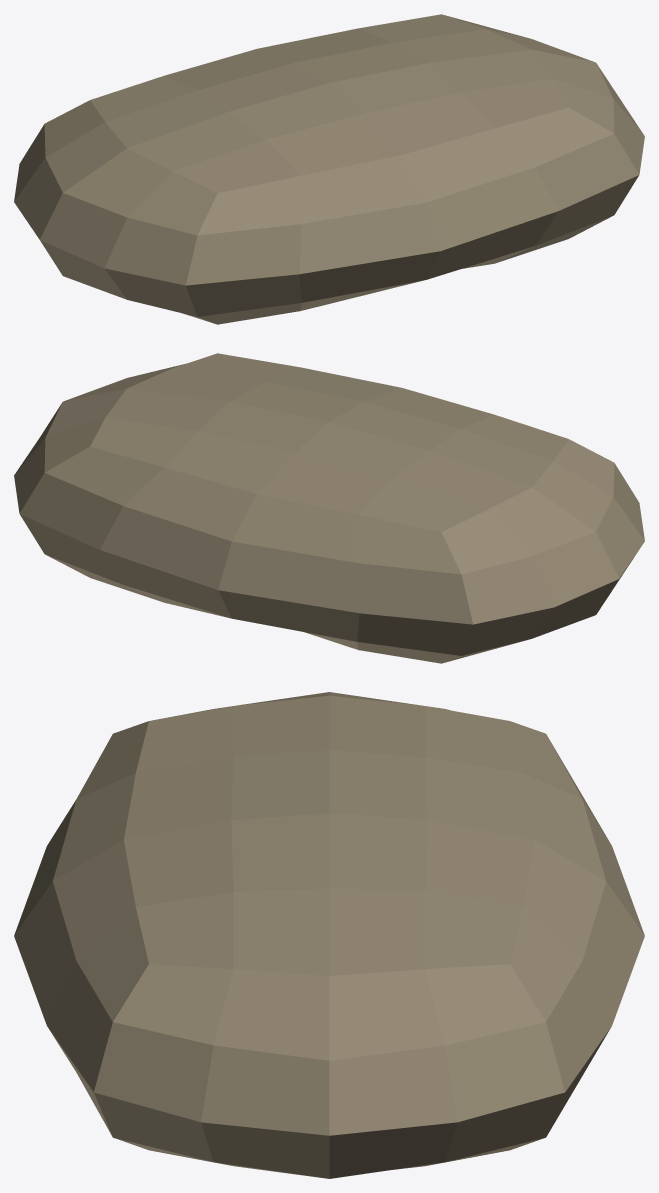
Rendered from SandBag1.fbx.
3 renders of one model, top to bottom at view 1: azimuth 30°, elevation 25°; view 2: azimuth 150°, elevation 25°; view 3: azimuth 270°, elevation 25°, orthographic. The views are drawn at different scales.
Visible parts, largest first — view 1: Sand; view 2: Sand; view 3: Sand.
Boxes of the visible parts, box(x1,y1,x2,y2) form: Sand: box(14, 14, 644, 324); Sand: box(14, 353, 644, 663); Sand: box(14, 692, 644, 1178).
Bounding box in the file's own units: 2.08 × 0.5421 × 1.39.
